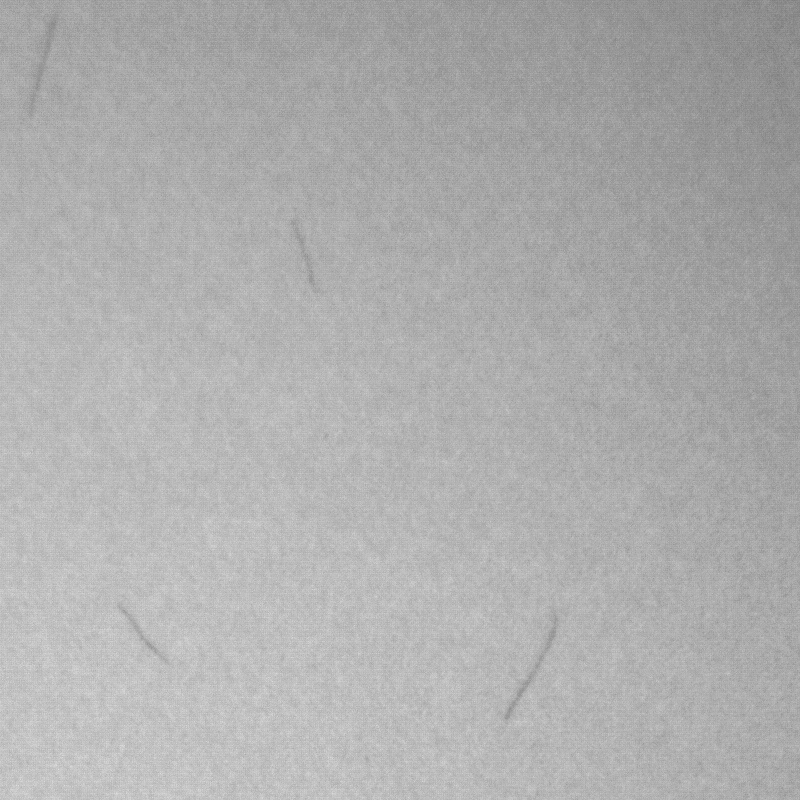defect: (498, 617, 564, 733), (117, 604, 170, 666), (30, 16, 57, 117), (289, 220, 321, 289)
